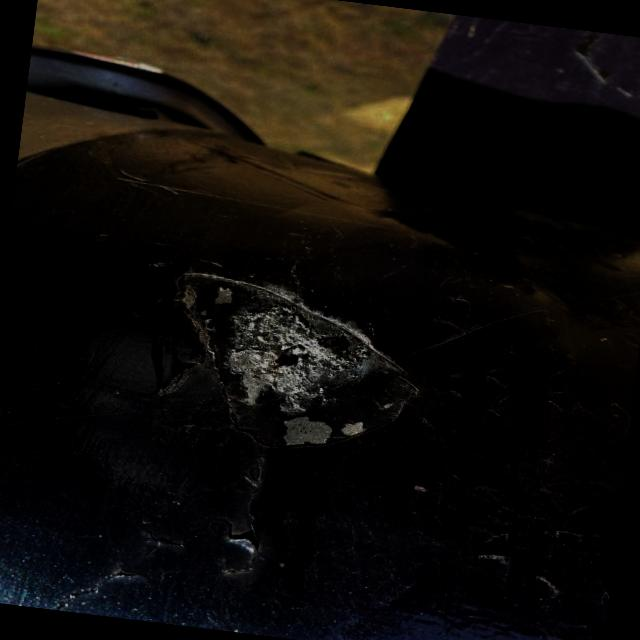crack: (186, 492, 276, 564), (125, 520, 189, 564), (84, 562, 161, 592)
dent: (152, 269, 448, 472)
